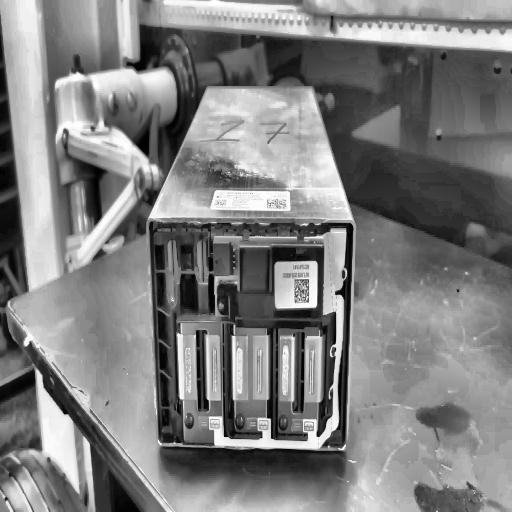battery_module: (149, 86, 354, 449)
